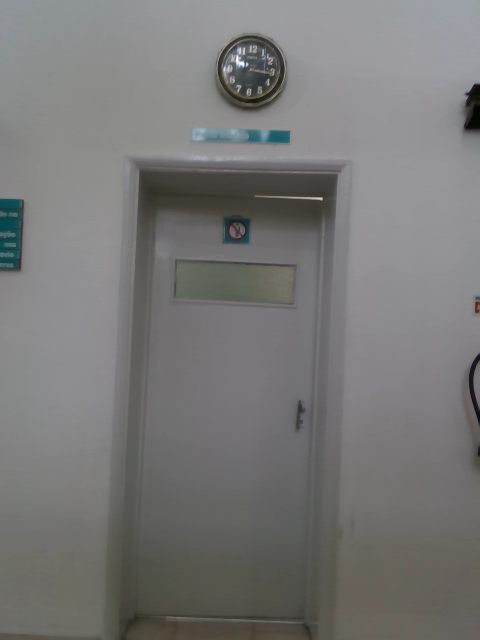closed: (110, 156, 357, 639)
